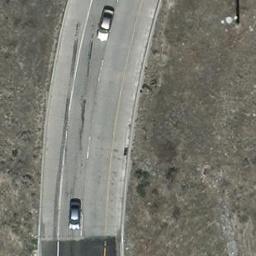car: (96, 8, 113, 43), (68, 199, 81, 228)
